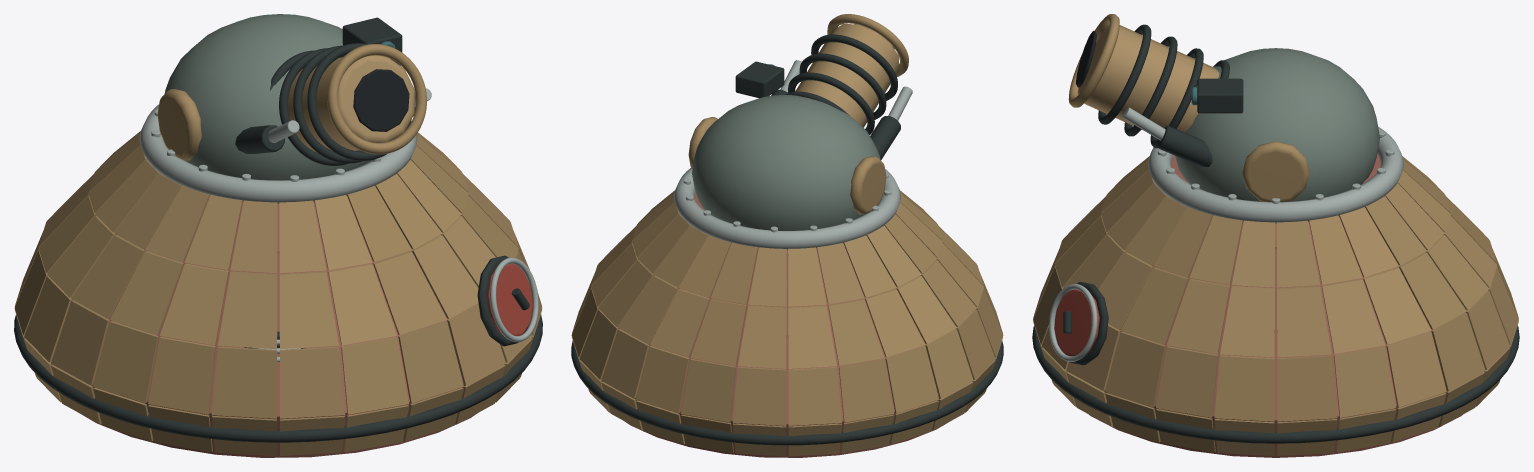
3 renders of one model, left to right at view 1: azimuth 30°, elevation 25°; view 2: azimuth 150°, elevation 25°; view 3: azimuth 270°, elevation 25°, orthographic. The views are drawn at different scales.
Parts seen in each view (by area): view 1: Armoured pedestal sectors, Weapon pivot, Pedestal foundation joint, Azimuth race flange, Turret armoured pedestal, Weapon barrel, Muzzle locking ring, Weapon dark bore, Trunnion left, Pedestal systems hatch lid, Barrel heat-sink collar.003, Barrel heat-sink collar.002 (+5 smaller); view 2: Armoured pedestal sectors, Weapon pivot, Azimuth race flange, Pedestal foundation joint, Weapon barrel, Turret armoured pedestal, Trunnion left, Head rangefinder, Muzzle locking ring, Barrel heat-sink collar.003, Barrel heat-sink collar.002, Barrel heat-sink collar.001 (+2 smaller); view 3: Armoured pedestal sectors, Weapon pivot, Azimuth race flange, Weapon barrel, Pedestal foundation joint, Turret armoured pedestal, Trunnion right, Pedestal systems hatch lid, Head rangefinder, Muzzle locking ring, Elevation actuator body.001, Pedestal systems hatch rim (+6 smaller).
Boxes of the visible parts, bbox=[...] form: Armoured pedestal sectors: bbox=[14, 131, 542, 455]; Weapon pivot: bbox=[164, 14, 371, 180]; Pedestal foundation joint: bbox=[14, 314, 542, 442]; Azimuth race flange: bbox=[139, 104, 417, 203]; Turret armoured pedestal: bbox=[50, 196, 506, 457]; Weapon barrel: bbox=[288, 55, 414, 153]; Muzzle locking ring: bbox=[327, 44, 426, 154]; Weapon dark bore: bbox=[353, 69, 409, 131]; Trunnion left: bbox=[157, 89, 201, 160]; Pedestal systems hatch lid: bbox=[487, 264, 533, 335]; Barrel heat-sink collar.003: bbox=[307, 43, 411, 160]; Barrel heat-sink collar.002: bbox=[293, 45, 362, 163]; Armoured pedestal sectors: bbox=[571, 190, 1003, 456]; Weapon pivot: bbox=[692, 95, 880, 230]; Azimuth race flange: bbox=[674, 168, 900, 250]; Pedestal foundation joint: bbox=[571, 340, 1003, 445]; Weapon barrel: bbox=[795, 24, 898, 127]; Turret armoured pedestal: bbox=[602, 192, 972, 457]; Trunnion left: bbox=[850, 156, 886, 214]; Head rangefinder: bbox=[735, 61, 784, 98]; Muzzle locking ring: bbox=[827, 14, 908, 76]; Barrel heat-sink collar.003: bbox=[811, 34, 897, 100]; Barrel heat-sink collar.002: bbox=[799, 53, 886, 119]; Barrel heat-sink collar.001: bbox=[788, 72, 874, 134]; Armoured pedestal sectors: bbox=[1033, 156, 1518, 455]; Weapon pivot: bbox=[1175, 48, 1379, 201]; Azimuth race flange: bbox=[1148, 127, 1403, 223]; Weapon barrel: bbox=[1078, 25, 1219, 132]; Pedestal foundation joint: bbox=[1032, 325, 1519, 443]; Turret armoured pedestal: bbox=[1066, 154, 1485, 457]; Trunnion right: bbox=[1242, 141, 1309, 202]; Pedestal systems hatch lid: bbox=[1054, 289, 1099, 356]; Head rangefinder: bbox=[1197, 78, 1243, 113]; Muzzle locking ring: bbox=[1068, 14, 1119, 107]; Elevation actuator body.001: bbox=[1157, 126, 1212, 166]; Pedestal systems hatch rim: bbox=[1049, 284, 1097, 361].
Bounding box in the file's own units: 2.01 × 1.57 × 2.01.
